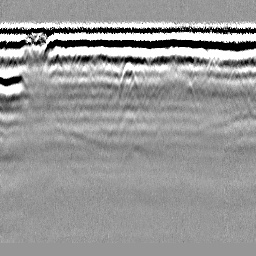cavity: (117, 59, 140, 100)
